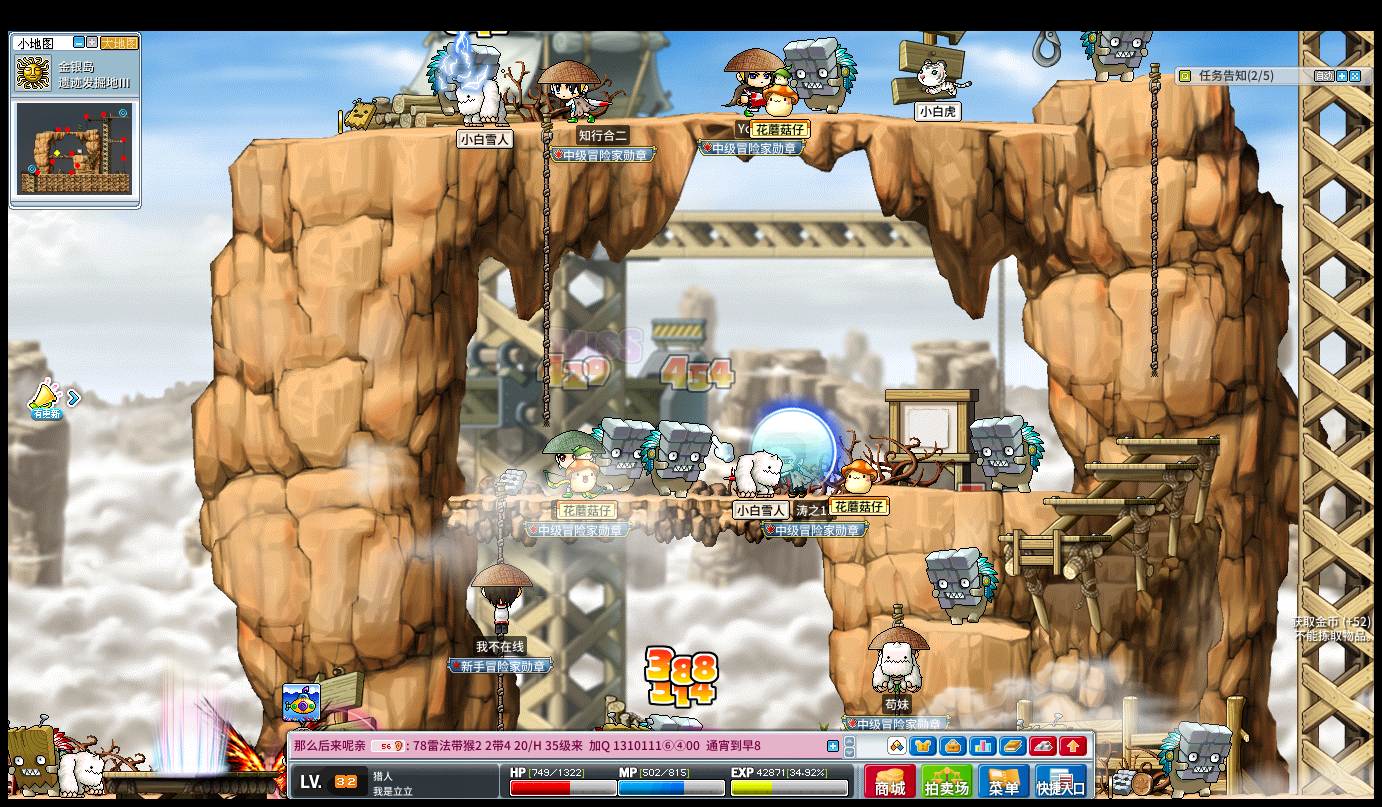floor: (231, 108, 1085, 143), (450, 492, 830, 505), (915, 619, 1030, 639), (892, 486, 1076, 497), (892, 488, 1076, 499), (1051, 73, 1170, 88), (1114, 434, 1221, 447), (1079, 461, 1194, 469), (1042, 496, 1157, 504), (1000, 533, 1108, 541)
monster: (424, 33, 498, 120), (784, 34, 858, 115), (969, 414, 1045, 492), (925, 547, 998, 625), (641, 418, 711, 497), (1158, 722, 1232, 794), (3, 717, 69, 793), (590, 416, 646, 495), (1083, 27, 1148, 83)
rope: (1146, 60, 1160, 381), (539, 114, 550, 429), (492, 488, 505, 565), (493, 673, 504, 725)
